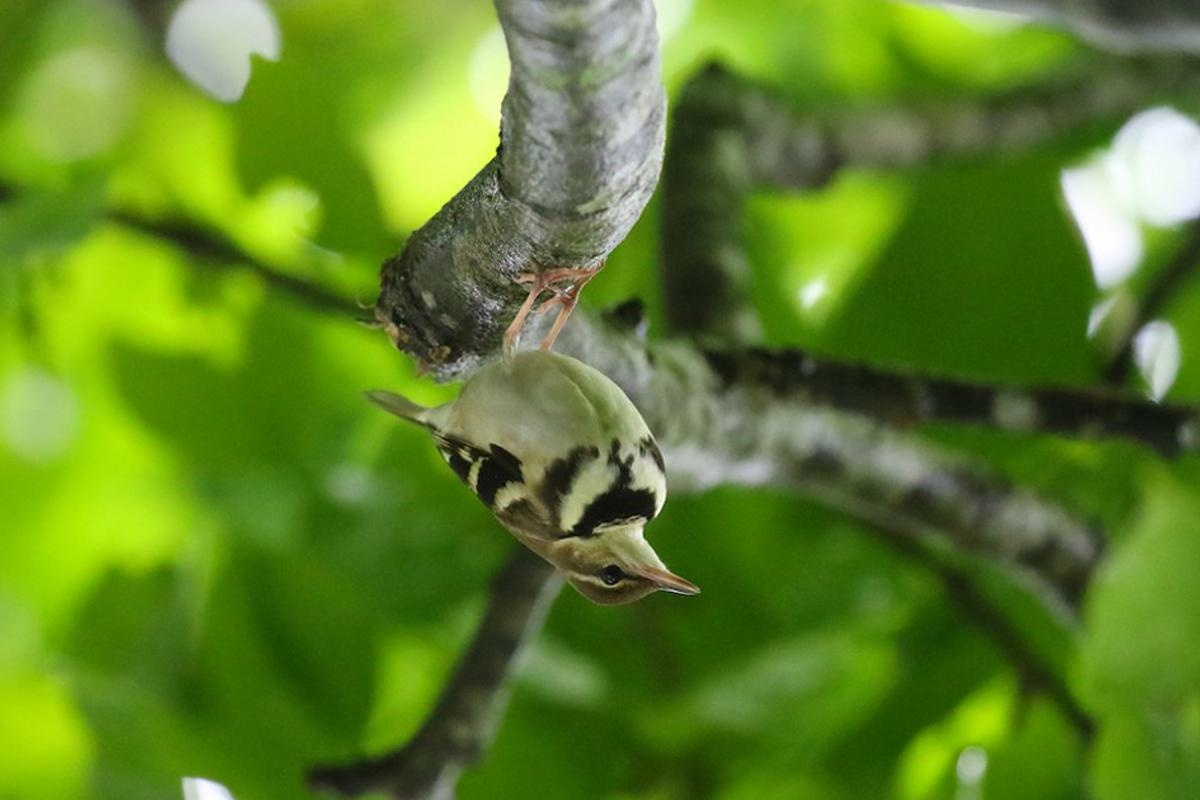wagtail: (403, 278, 696, 616)
